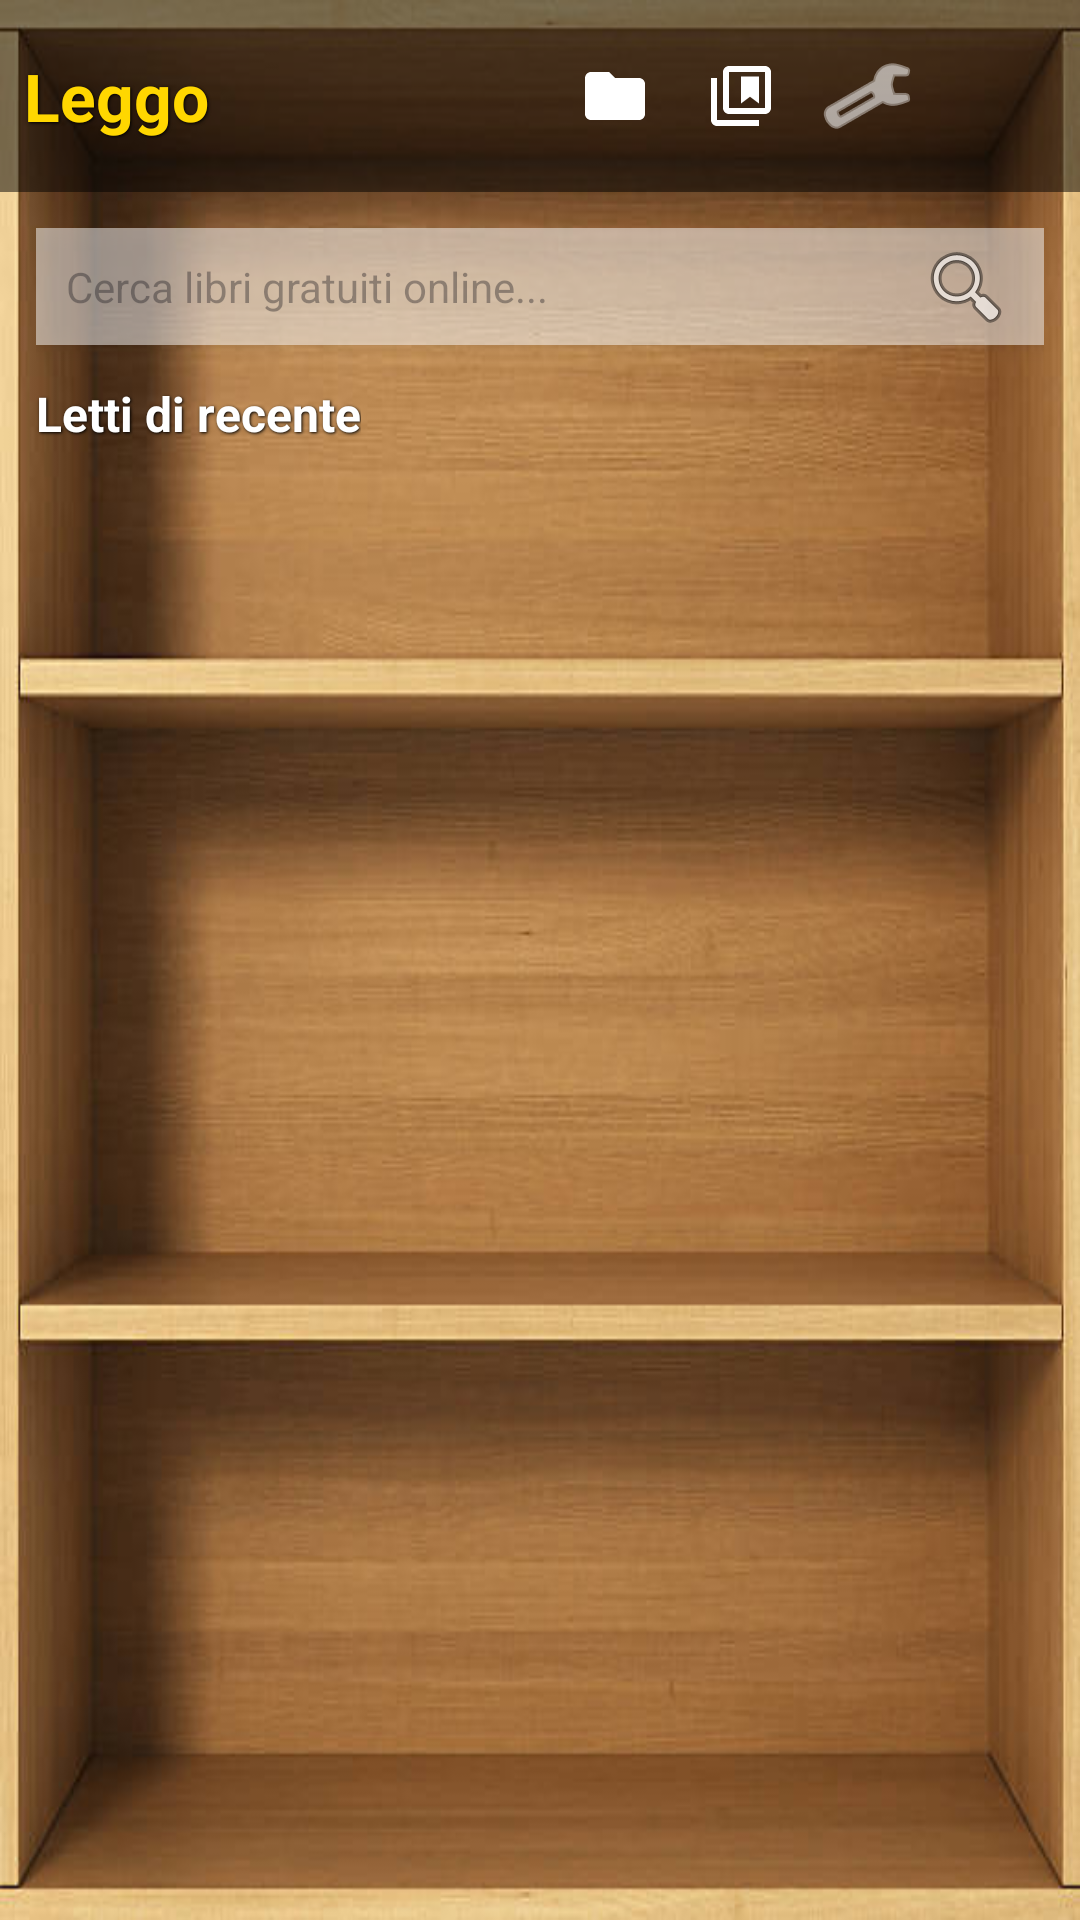

Icon click points for this 1080px×1920px phone screenshot, format [x,y]:
Biblioteca: [741,96]
Impostazioni: [867,96]
